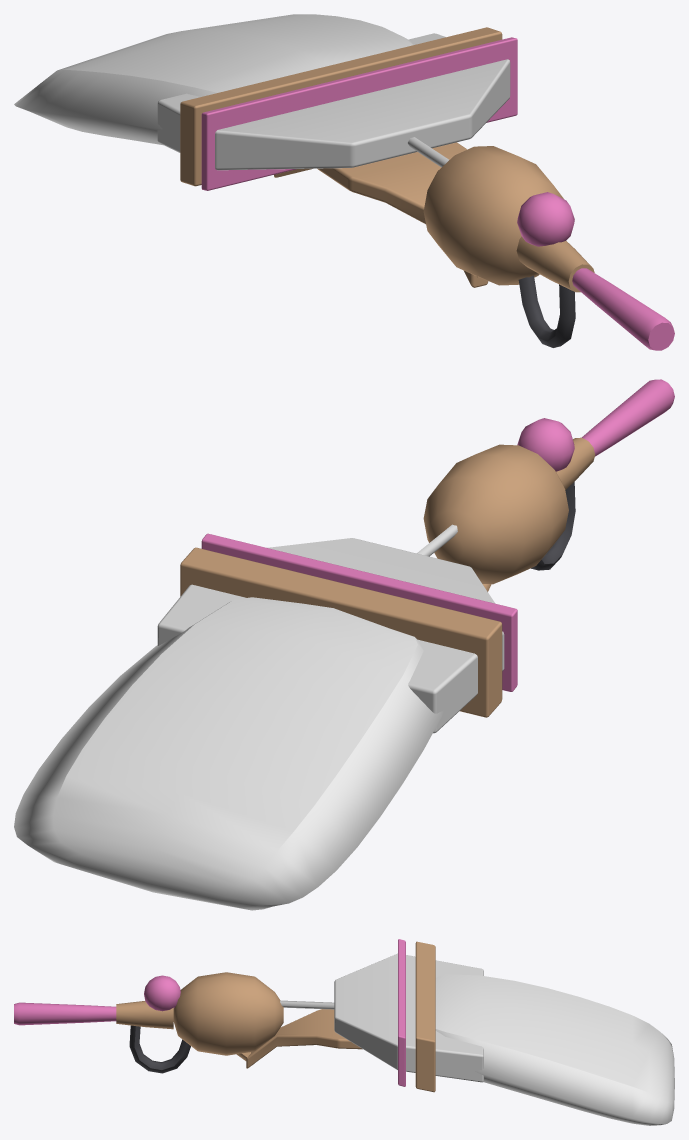
Rendered from W_Brush.fbx.
3 views of the same model, one above another, from view 1: azimuth 30°, elevation 25°; view 2: azimuth 150°, elevation 25°; view 3: azimuth 270°, elevation 25° (orthographic). The views are drawn at different scales.
Parts seen in each view (by area): view 1: Inkbrush_Body; view 2: Inkbrush_Body; view 3: Inkbrush_Body.
Boxes of the visible parts, box(x1,y1,x2,y2) form: Inkbrush_Body: box(14, 14, 674, 350); Inkbrush_Body: box(14, 379, 674, 910); Inkbrush_Body: box(14, 939, 674, 1125).
Size of the model in its own units: 108 by 60.92 by 300.
